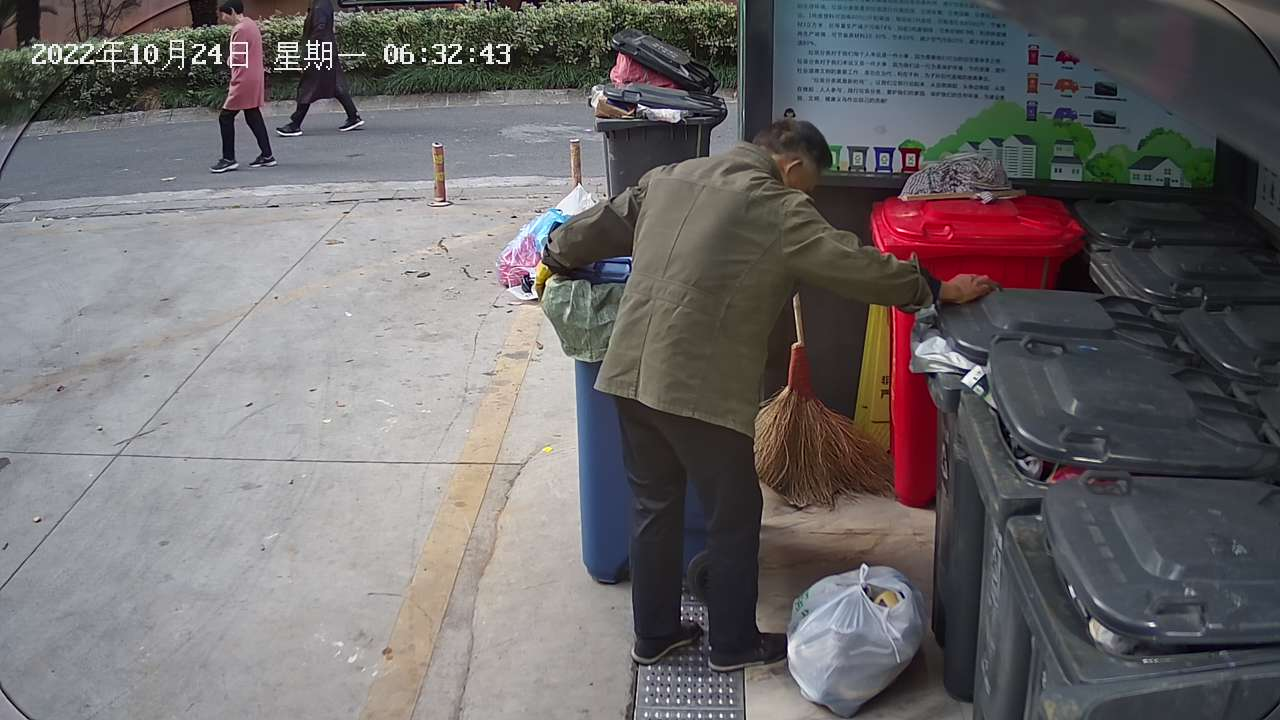garbage-bag: (780, 556, 933, 720)
person: (535, 114, 1008, 681), (200, 1, 281, 175)
